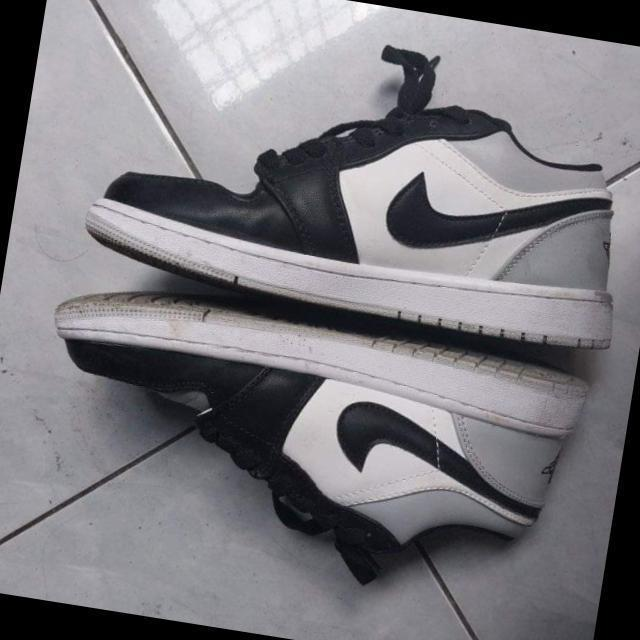nike fake jordan 1: (19, 277, 596, 618), (74, 49, 640, 361)
